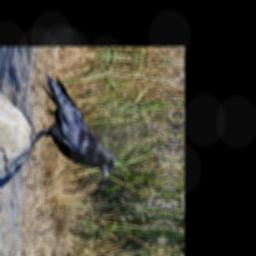Crow: (21, 71, 128, 182)
